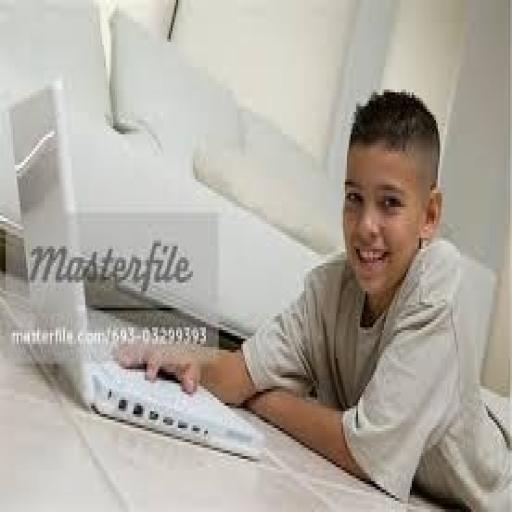using_laptop: (0, 99, 317, 512)
